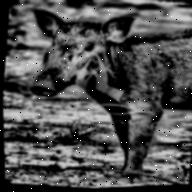boar: (7, 0, 192, 192)
